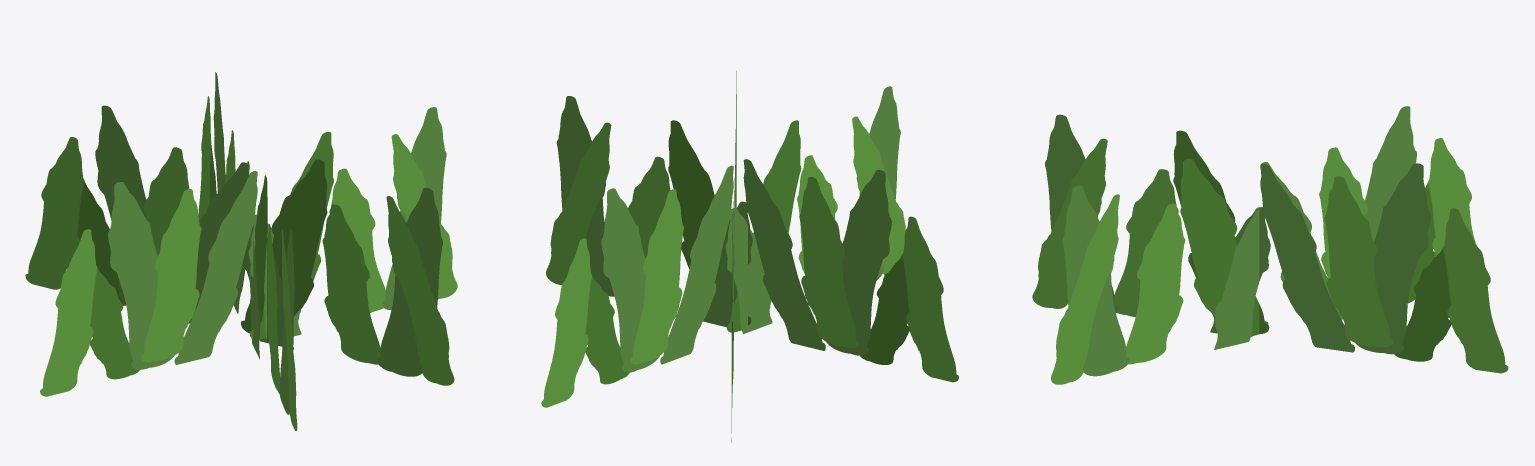
The model's file is model_grama_02.fbx.
3 renders of one model, left to right at view 1: azimuth 30°, elevation 25°; view 2: azimuth 150°, elevation 25°; view 3: azimuth 270°, elevation 25°, orthographic.
Parts seen in each view (by area): view 1: Plane; view 2: Plane; view 3: Plane.
Boxes of the visible parts, box(x1,y1,x2,y2) form: Plane: box(25, 72, 457, 431); Plane: box(541, 71, 958, 442); Plane: box(1032, 106, 1508, 384).
Bounding box in the file's own units: 3.22 × 1.42 × 3.16.
Materials: 1 (1 with a texture image).
